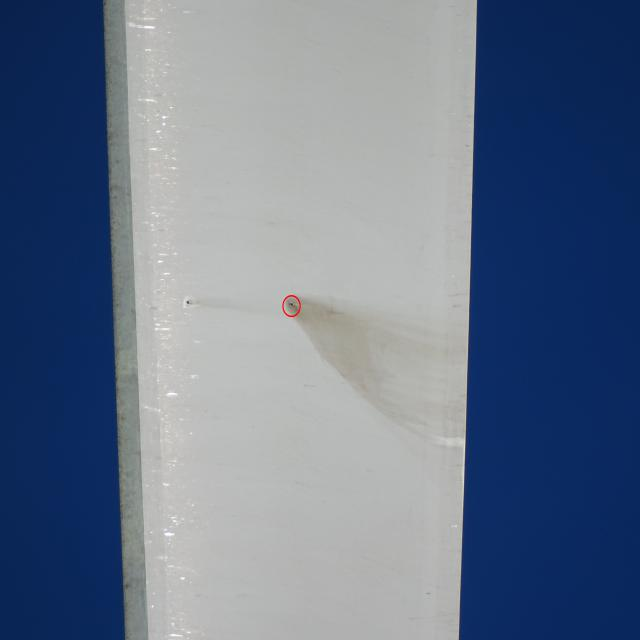damage: (287, 300, 296, 312)
